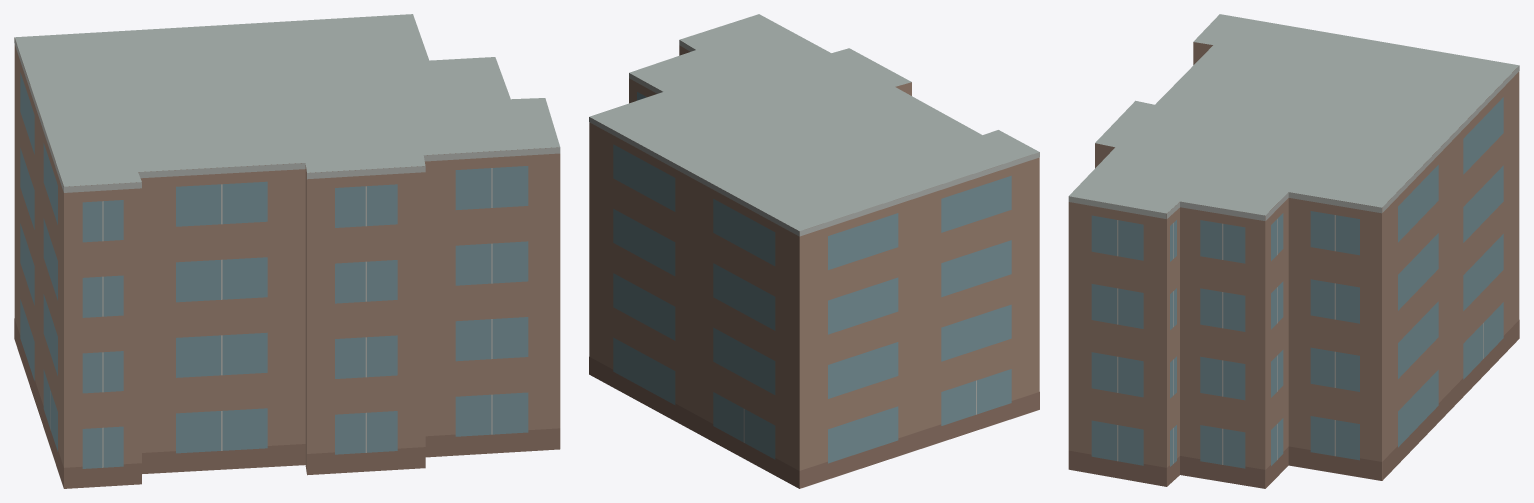
File: survey-upis-32581786.glb
3 views of the same model, side by side, from view 1: azimuth 30°, elevation 25°; view 2: azimuth 150°, elevation 25°; view 3: azimuth 270°, elevation 25° (orthographic). The views are drawn at different scales.
Visible parts, largest first — view 1: survey-upis-32581786.tmp; view 2: survey-upis-32581786.tmp; view 3: survey-upis-32581786.tmp.
Boxes of the visible parts, <box> form: survey-upis-32581786.tmp: <box>14,14,560,488</box>; survey-upis-32581786.tmp: <box>589,14,1039,488</box>; survey-upis-32581786.tmp: <box>1068,14,1519,488</box>.
Size of the model in its own units: 18.59 by 11.75 by 17.57.
